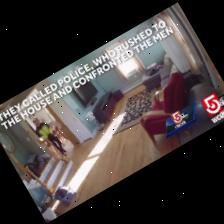person: (33, 119, 67, 155)
